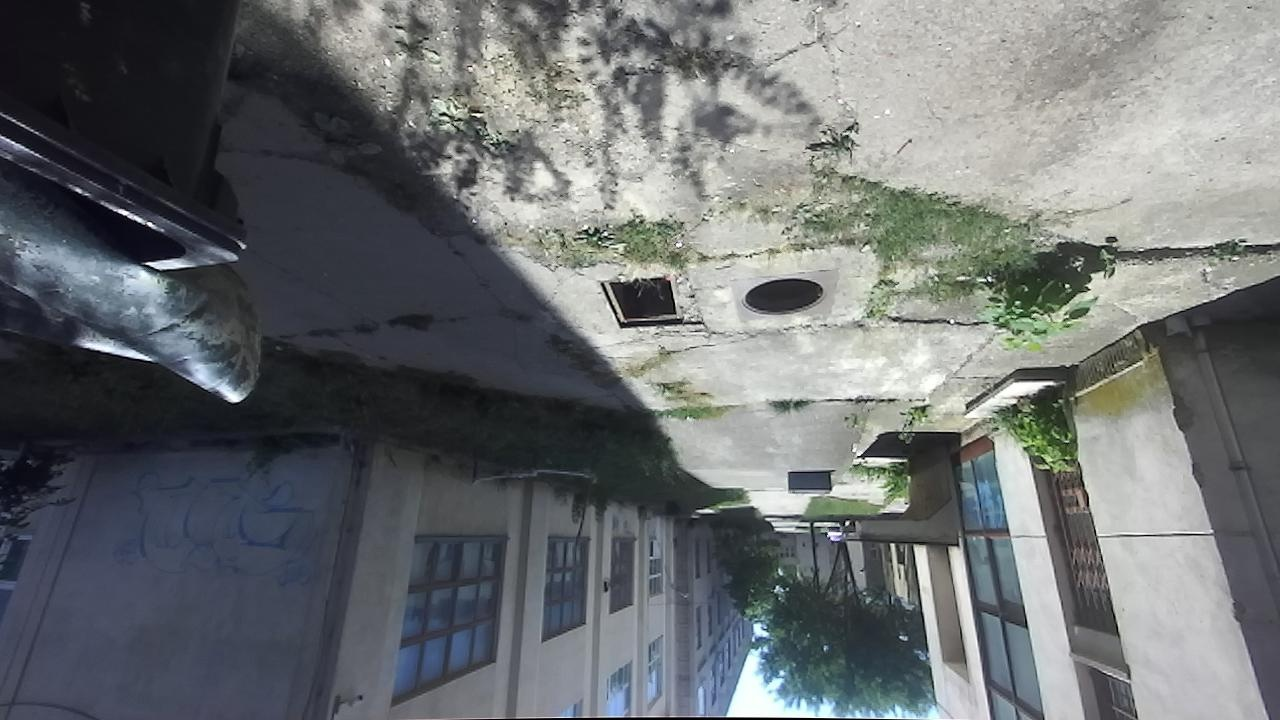drain: (592, 271, 685, 333), (728, 274, 829, 322)
